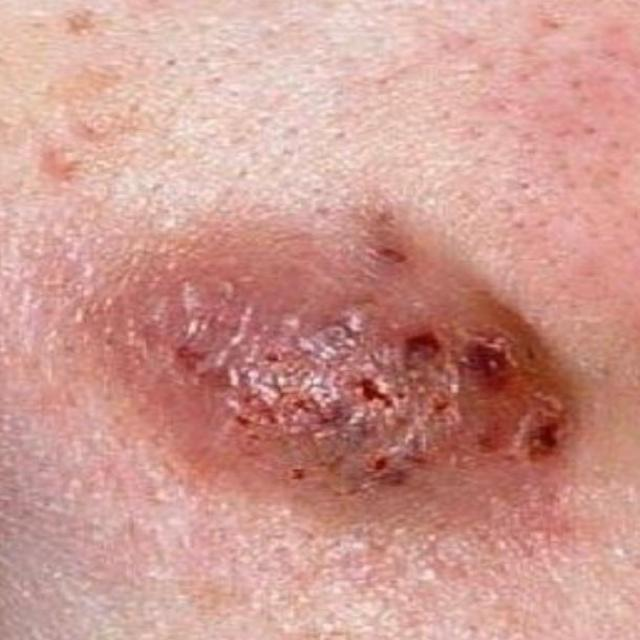nodule: (63, 196, 618, 554)
